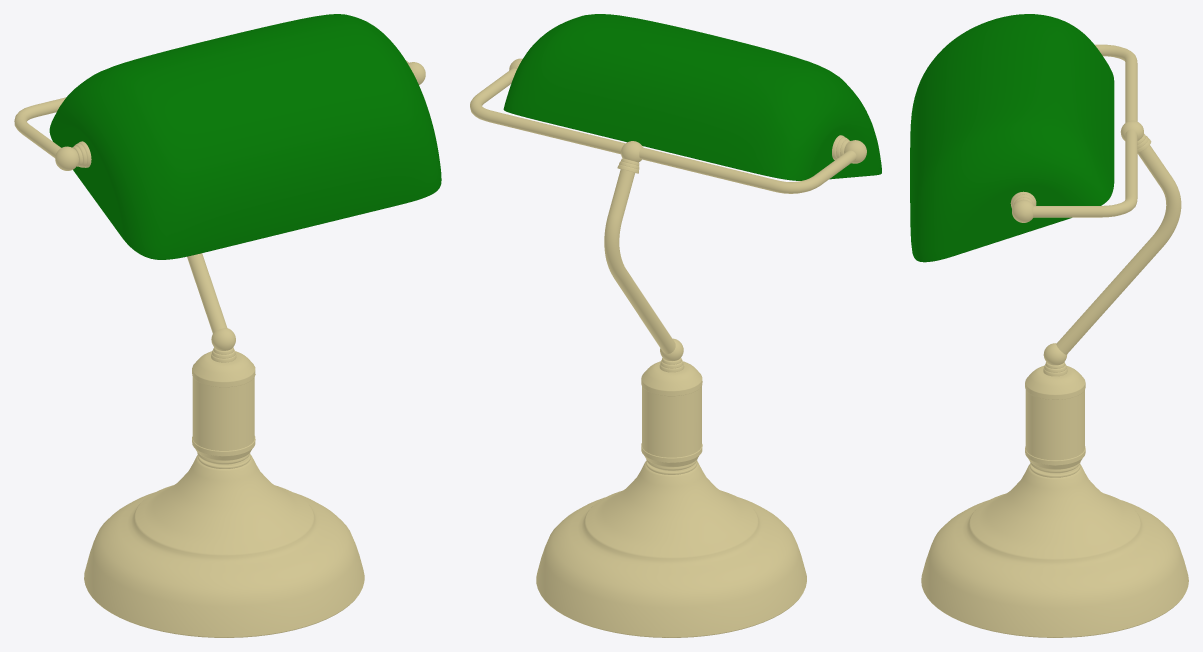
3 views of the same model, side by side, from view 1: azimuth 30°, elevation 25°; view 2: azimuth 150°, elevation 25°; view 3: azimuth 270°, elevation 25° (orthographic). The views are drawn at different scales.
Visible parts, largest first — view 1: 6039; view 2: 6039; view 3: 6039.
Boxes of the visible parts, x1,y1,x2,y2 form: 6039: (14,14,441,637); 6039: (470,14,881,637); 6039: (910,14,1188,637).
Size of the model in its own units: 0.26 by 0.37 by 0.18.
4 materials, 3 textured.
